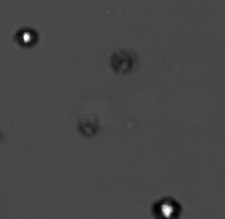Dead Cell: (110, 49, 132, 73), (78, 116, 98, 135)
Living Cell: (152, 197, 180, 218), (16, 27, 39, 48)
